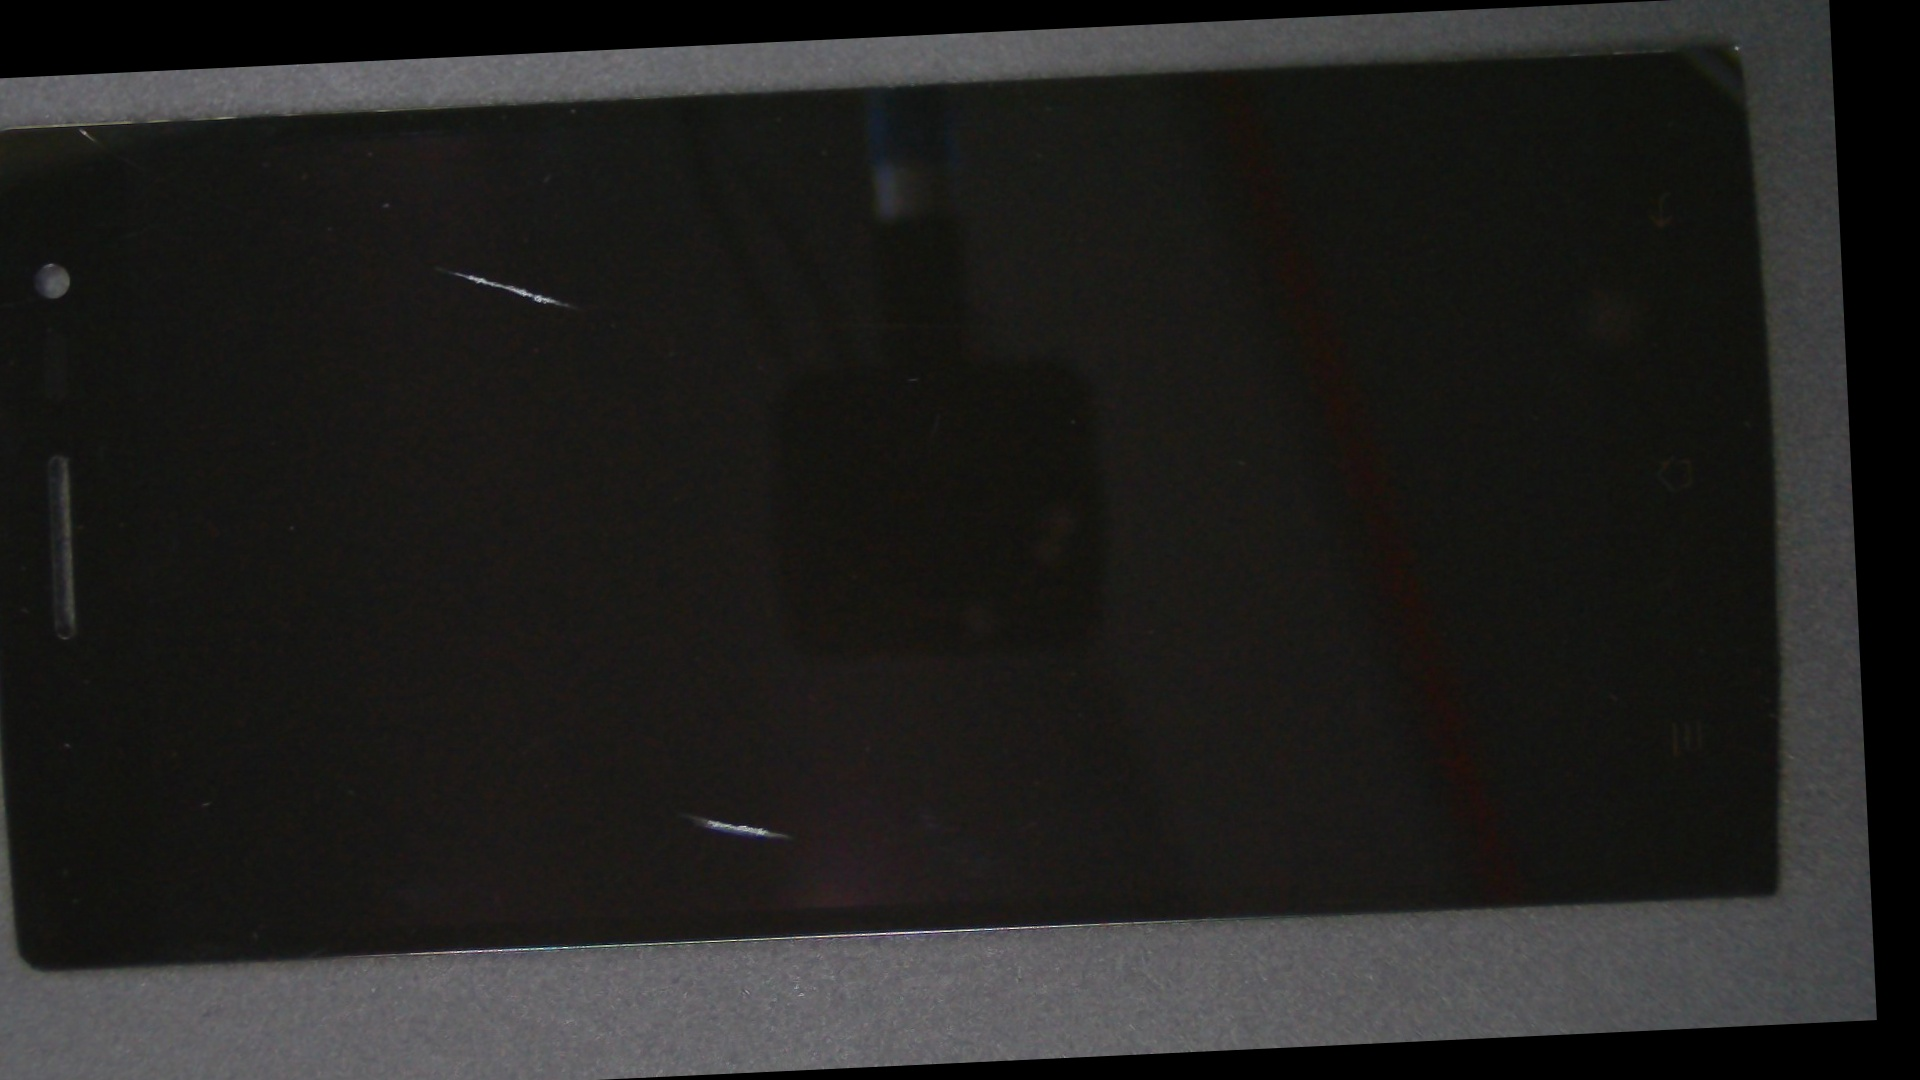oil: (306, 414, 1065, 1080), (183, 153, 705, 392)
